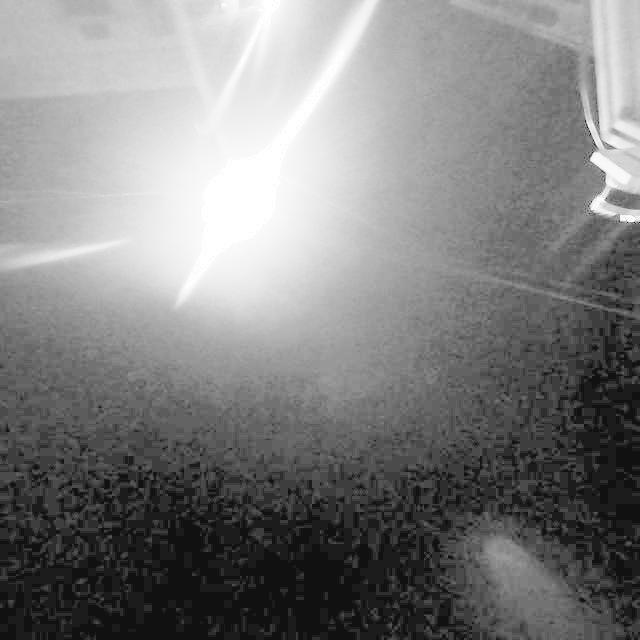Light: (183, 162, 290, 237)
